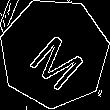M_NE: (20, 19, 88, 87)
